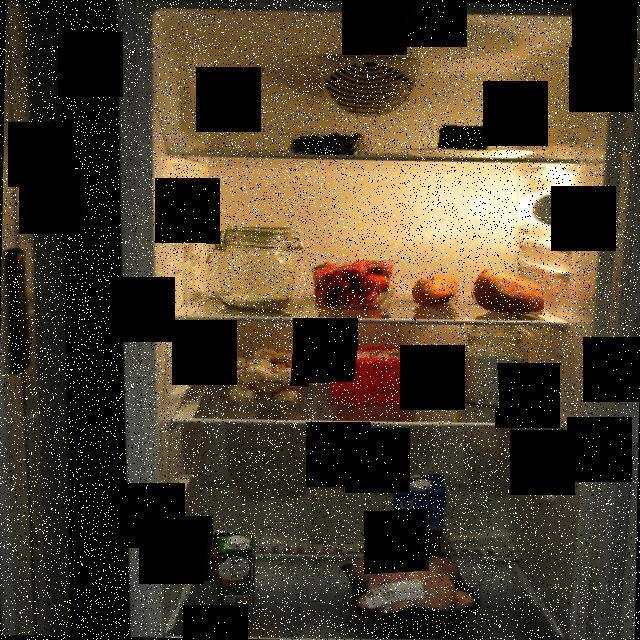Berries strawberries/blueberries: (310, 260, 398, 312), (282, 131, 376, 155)
Butter stick/block: (324, 346, 429, 406)
Cheese: (434, 120, 494, 154)
Chicken: (338, 552, 482, 632)
Corn ear: (201, 533, 248, 577)
Cream: (218, 534, 255, 604)
Flour: (198, 225, 306, 314)
Milk carton/jug: (390, 473, 452, 564)
Mushroom: (218, 344, 312, 402)
Sugar: (455, 322, 528, 408)
Sweet Potato: (470, 269, 544, 316), (412, 274, 460, 312)
